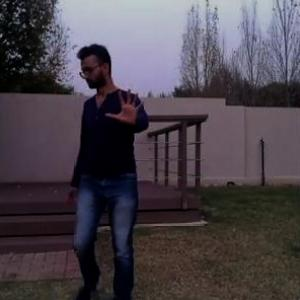follow_hand: (104, 80, 149, 125)
